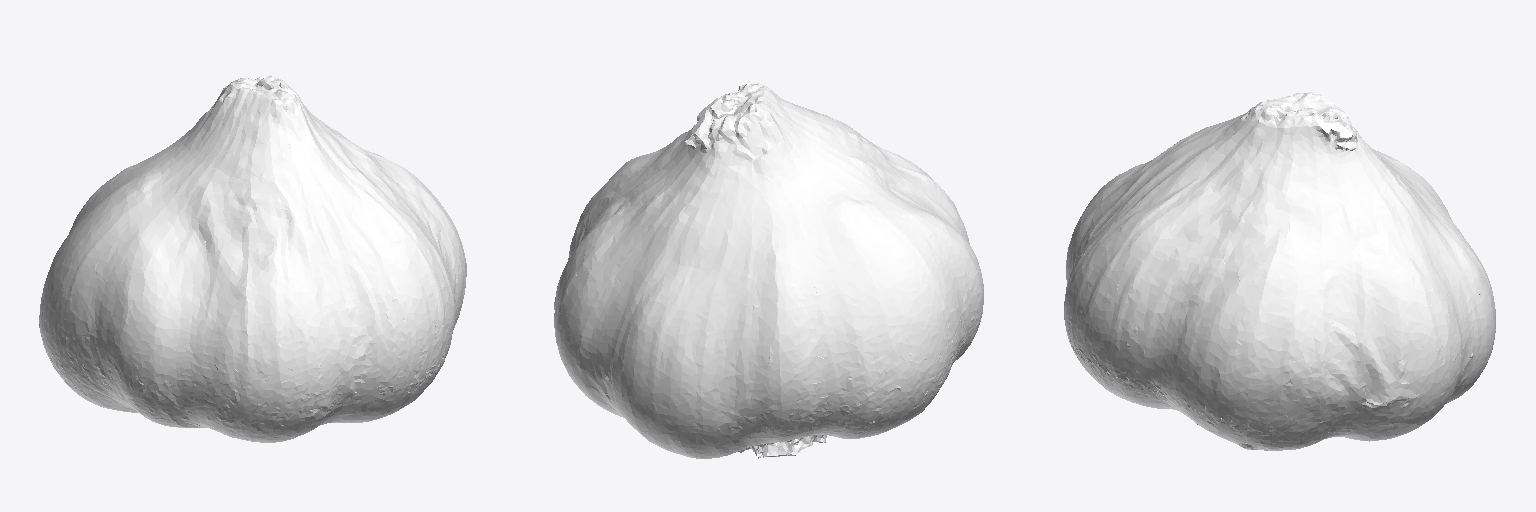
File: garlic.obj
3 renders of one model, left to right at view 1: azimuth 30°, elevation 25°; view 2: azimuth 150°, elevation 25°; view 3: azimuth 270°, elevation 25°, orthographic.
Size of the model in its own units: 1.84 by 1.52 by 1.83.